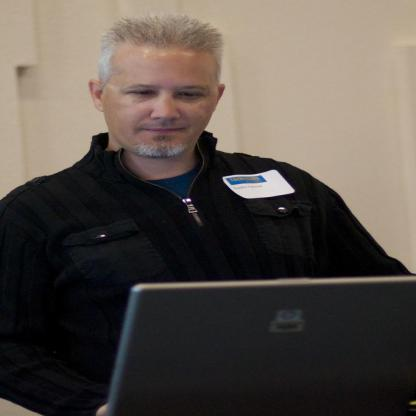board: (105, 268, 416, 410)
